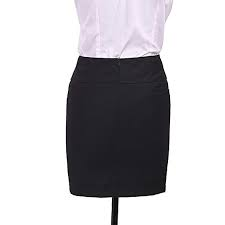F_tailored skirt: (61, 53, 176, 199)
